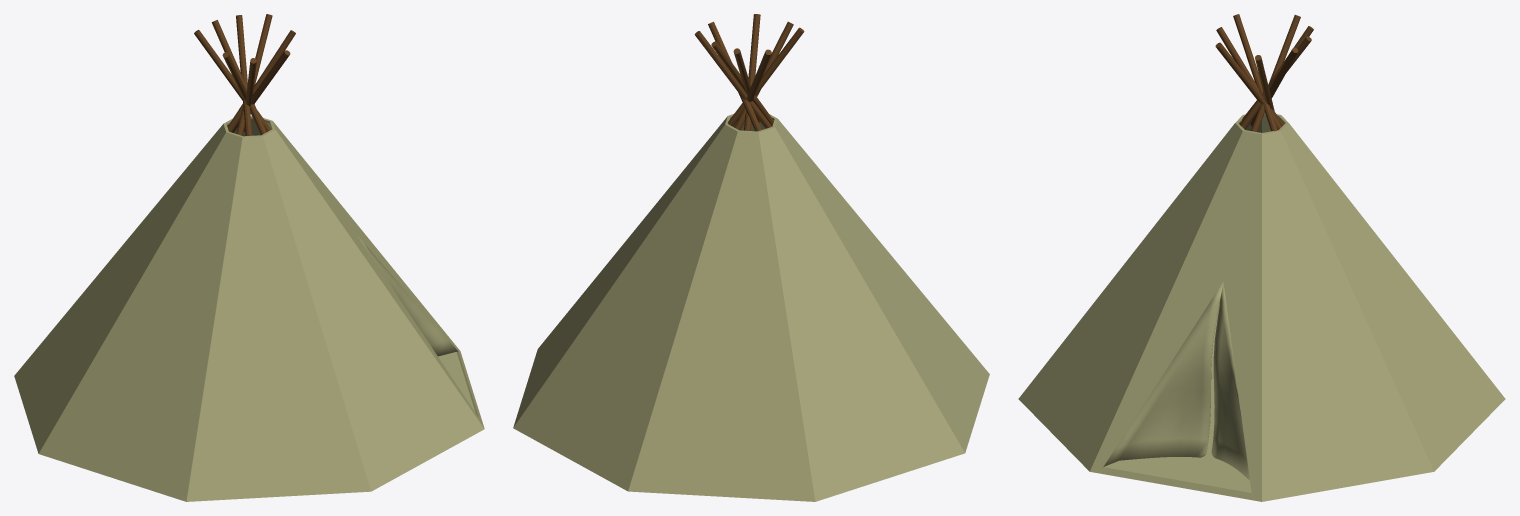
The model's file is tipi.fbx.
The picture shows the model from 3 angles, left to right: view 1: azimuth 30°, elevation 25°; view 2: azimuth 150°, elevation 25°; view 3: azimuth 270°, elevation 25°; orthographic projection.
Parts seen in each view (by area): view 1: Tent, Poles, Door; view 2: Tent, Poles; view 3: Tent, Door, Poles.
Boxes of the visible parts, left/top/right/bottom form: Tent: left=14, top=116, right=484, bottom=501; Poles: left=194, top=14, right=295, bottom=135; Door: left=358, top=236, right=457, bottom=356; Tent: left=513, top=114, right=989, bottom=501; Poles: left=694, top=14, right=804, bottom=131; Tent: left=1018, top=113, right=1505, bottom=501; Door: left=1103, top=282, right=1249, bottom=480; Poles: left=1215, top=14, right=1313, bottom=131.
Size of the model in its own units: 800 by 667 by 800.
